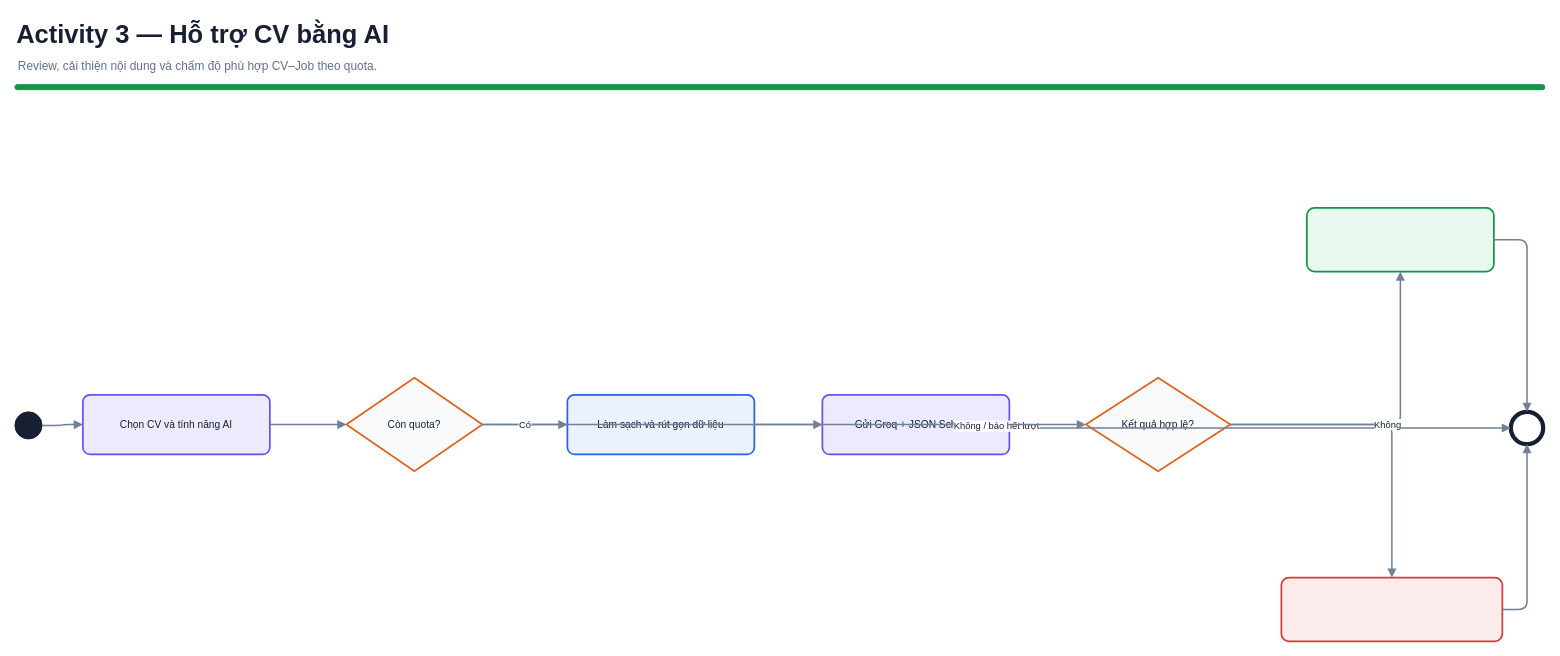
The diagram is 1560 pixels wide and 656 high, and some of its shapes have lost their labels. Each missing label, with the centre of its shape:
Chuẩn hóa lỗi, giữ dữ liệu đang nhập: pixel 1391 609
Hiển thị review/điểm/gợi ý: pixel 1400 239
